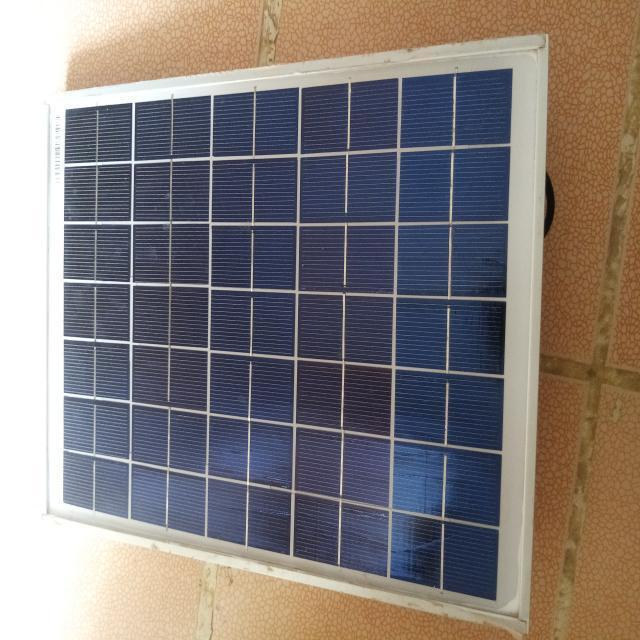Normal Solar Panel: (42, 41, 546, 628)
